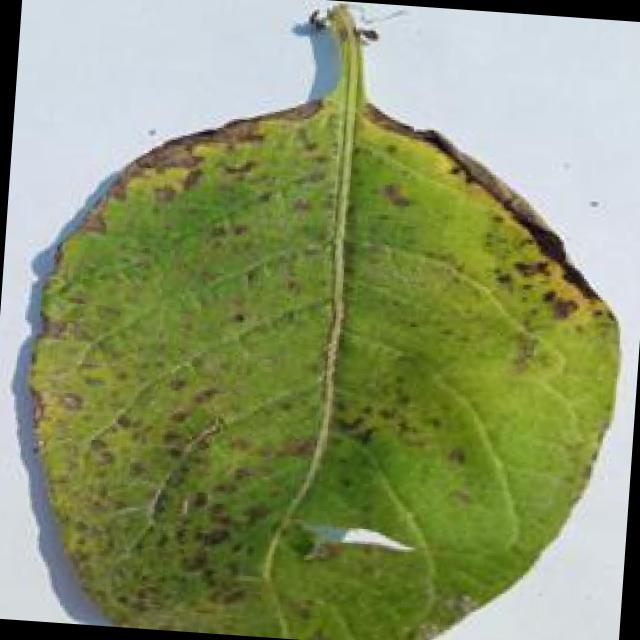Potato_Early_Blight: (7, 78, 640, 640)
